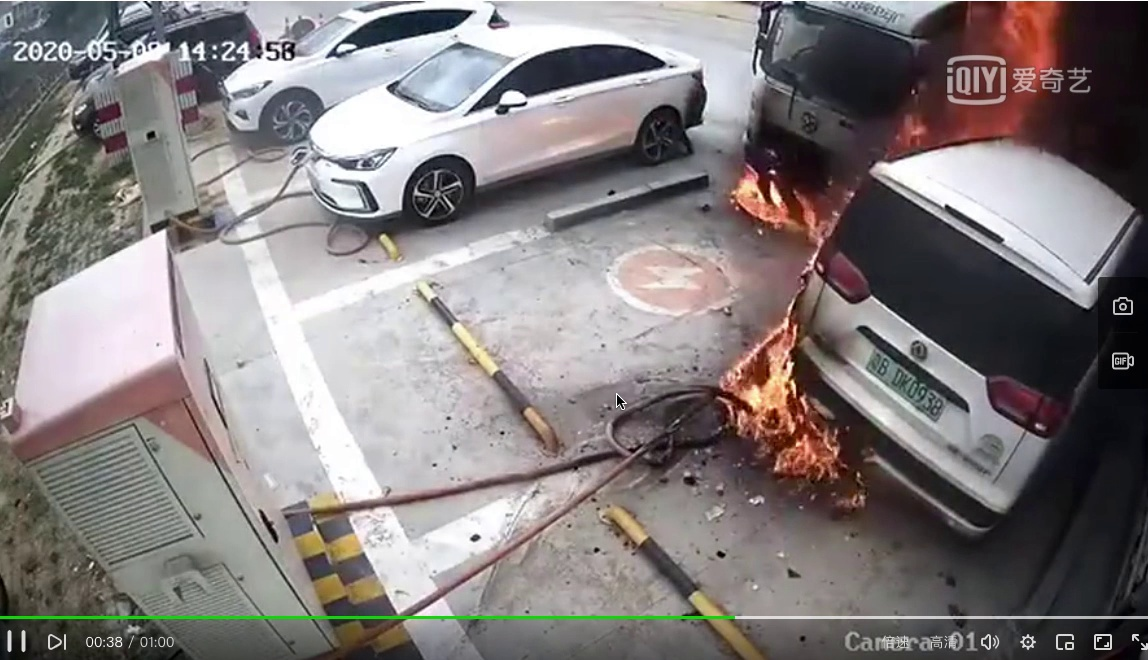fire: (709, 316, 848, 495), (738, 165, 855, 251)
